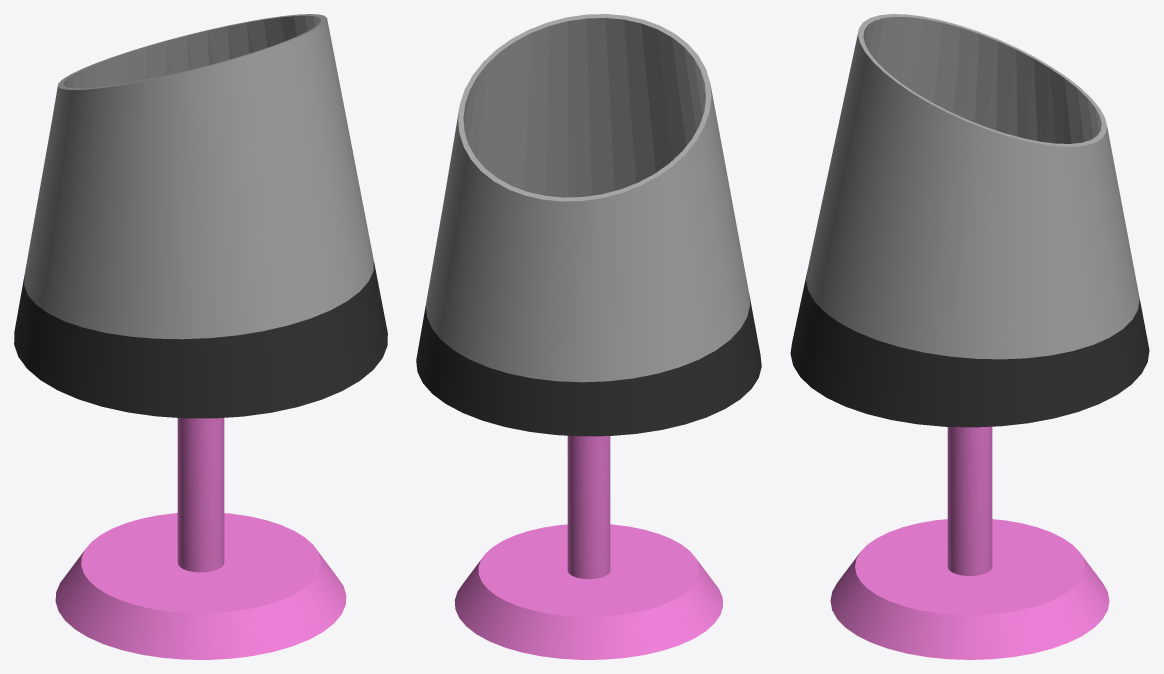
Rendered from SM_BedroomLamp.fbx.
The picture shows the model from 3 angles, left to right: view 1: azimuth 30°, elevation 25°; view 2: azimuth 150°, elevation 25°; view 3: azimuth 270°, elevation 25°; orthographic projection. The views are drawn at different scales.
Visible parts, largest first — view 1: Cylinder002; view 2: Cylinder002; view 3: Cylinder002.
Boxes of the visible parts, x1,y1,x2,y2 form: Cylinder002: (14, 14, 387, 659); Cylinder002: (416, 14, 761, 659); Cylinder002: (790, 14, 1149, 659).
Size of the model in its own units: 8.43 by 14.66 by 8.43.
